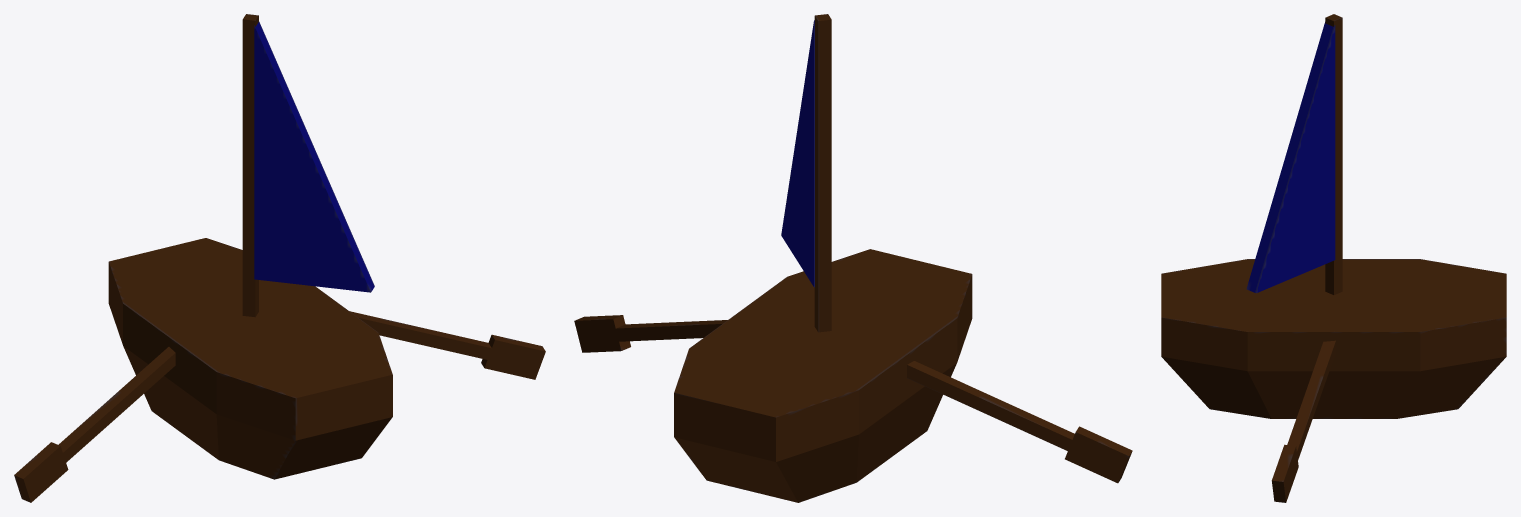
Rendered from talkingship.gltf.
3 renders of one model, left to right at view 1: azimuth 30°, elevation 25°; view 2: azimuth 150°, elevation 25°; view 3: azimuth 270°, elevation 25°, orthographic. The views are drawn at different scales.
Parts seen in each view (by area): view 1: Cube; view 2: Cube; view 3: Cube.
Part boxes in pixels (x1,y1,x2,y2): Cube: (14,14,545,502); Cube: (574,14,1132,502); Cube: (1161,14,1506,502).
Size of the model in its own units: 6.53 by 4.75 by 4.
1 material, 1 textured.
